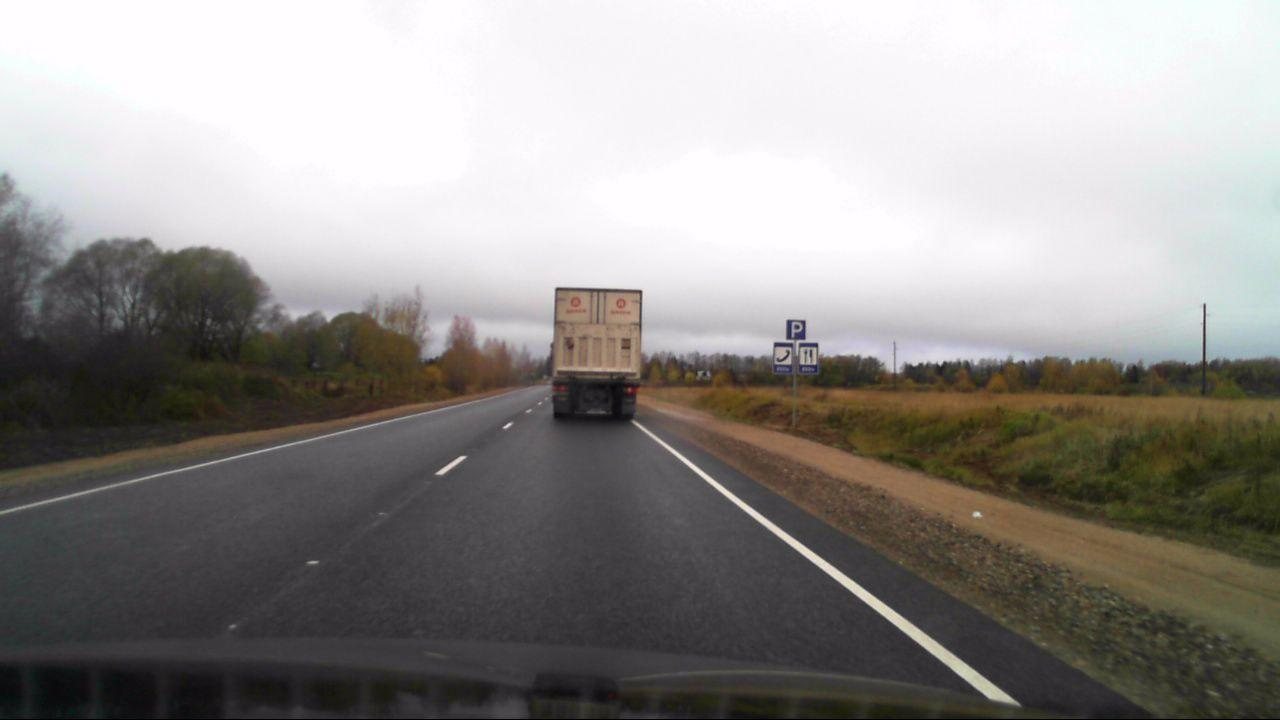6_4: (786, 319, 806, 340)
7_6: (773, 341, 793, 375)
7_7: (798, 342, 818, 374)
